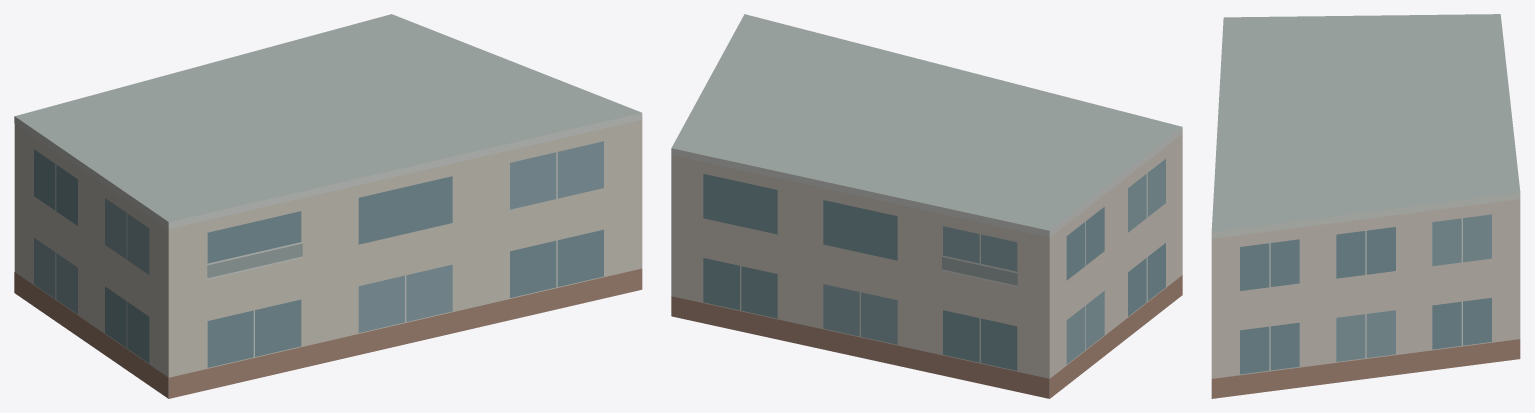
The model's file is survey-upis-32832292.glb.
The picture shows the model from 3 angles, left to right: view 1: azimuth 30°, elevation 25°; view 2: azimuth 150°, elevation 25°; view 3: azimuth 270°, elevation 25°; orthographic projection. The views are drawn at different scales.
Parts seen in each view (by area): view 1: survey-upis-32832292.tmp; view 2: survey-upis-32832292.tmp; view 3: survey-upis-32832292.tmp.
Boxes of the visible parts, bbox=[...] form: survey-upis-32832292.tmp: bbox=[14, 14, 642, 398]; survey-upis-32832292.tmp: bbox=[671, 14, 1182, 398]; survey-upis-32832292.tmp: bbox=[1211, 14, 1520, 398].
Size of the model in its own units: 17.14 by 6.1 by 10.25.
